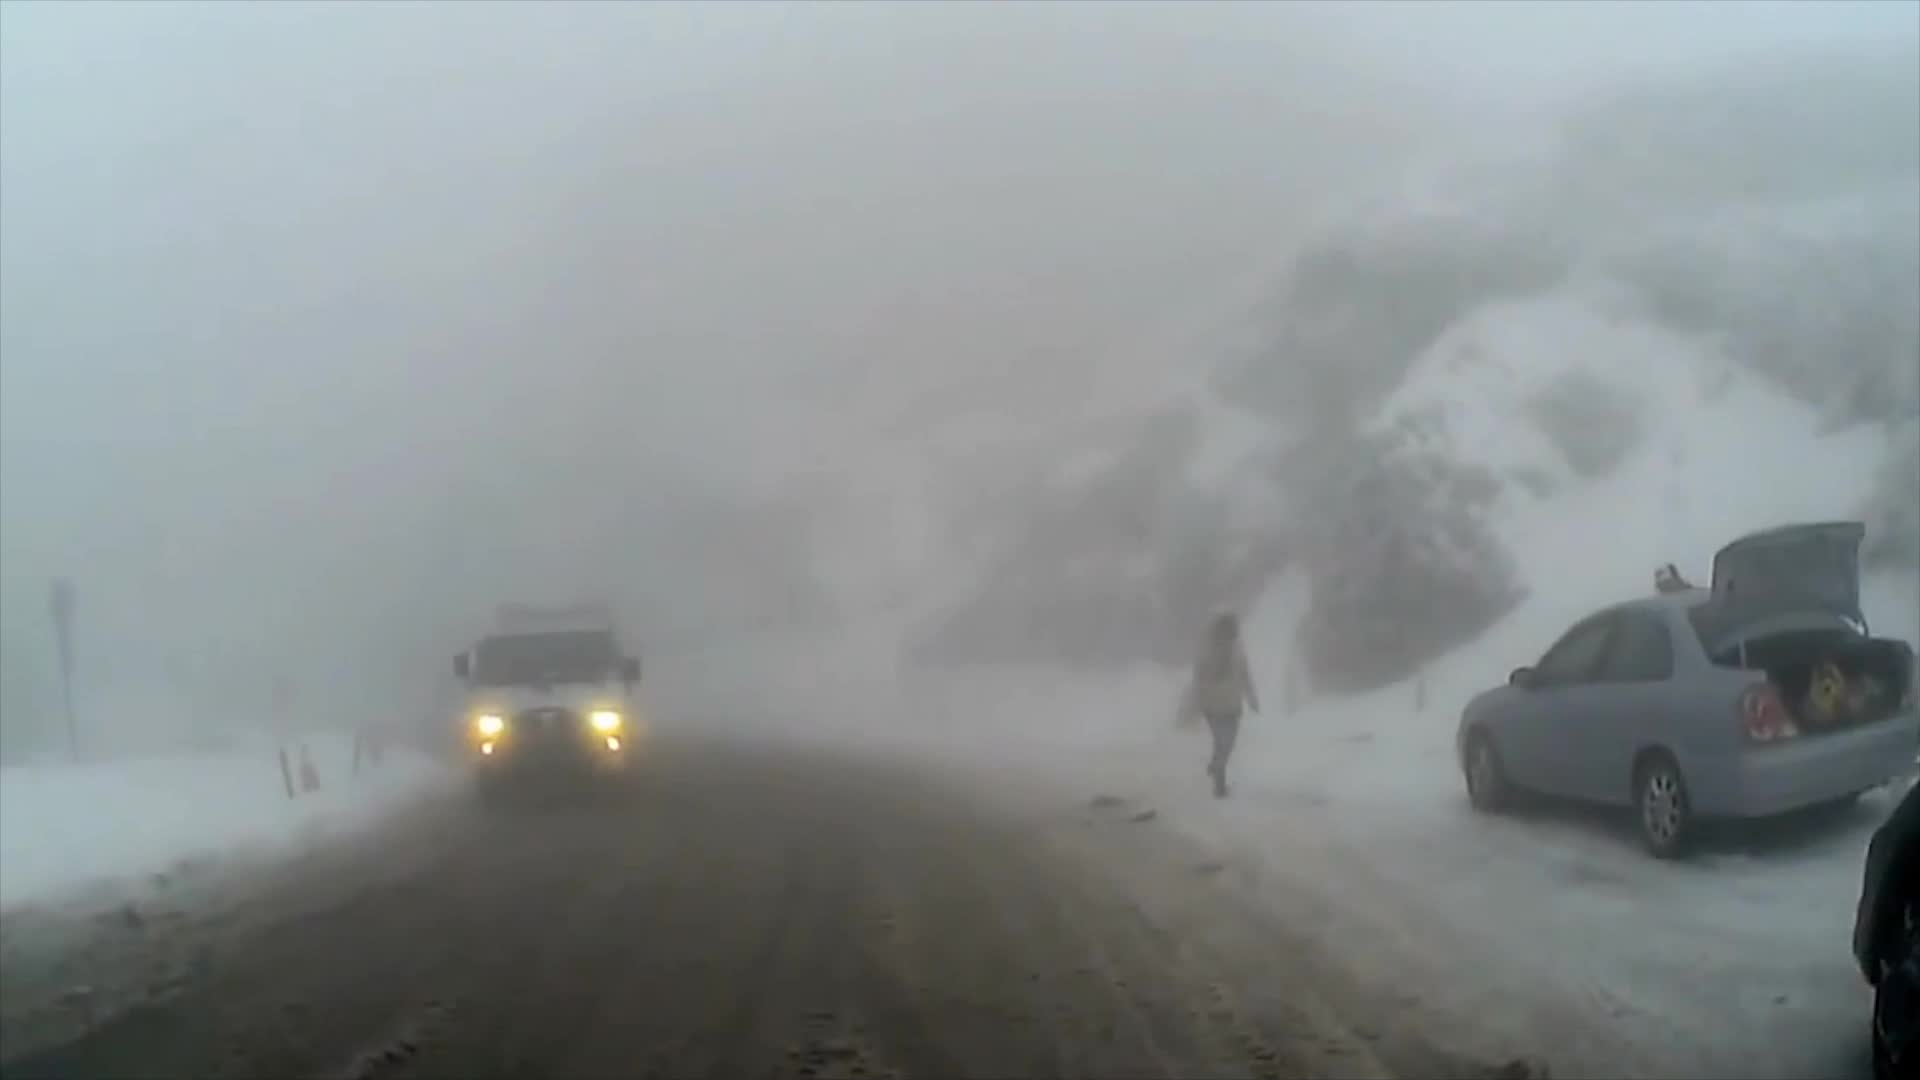pedestrian: (1181, 605, 1261, 800)
vehicle: (1451, 515, 1917, 864), (447, 602, 644, 813), (1850, 778, 1919, 1079)
